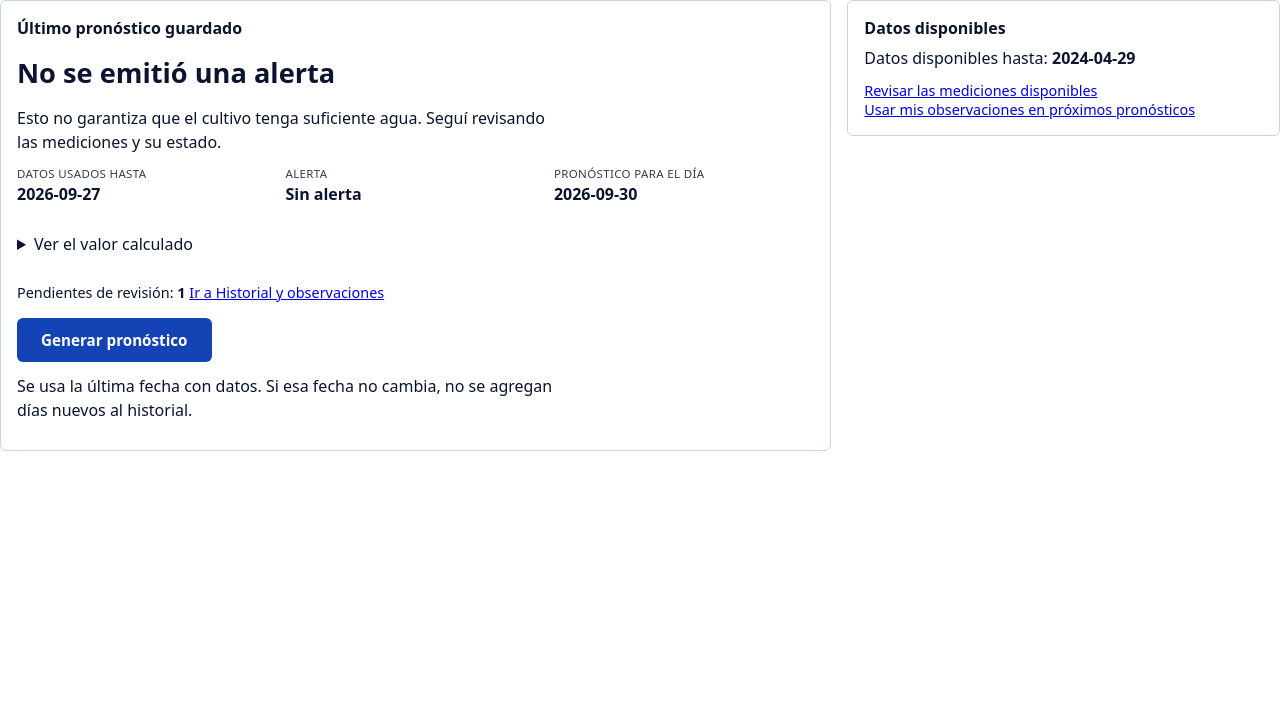
it: ResumenView › says so when generating again does not add a day because the last date already has its forecast
Expected: the text "2026-09-30" is shown, [554,183,637,205]
What coordinates should you click on to do the following:
click the button "Generar pronóstico"
I would click on:
 (114, 340)
Its box is [17,318,212,362].
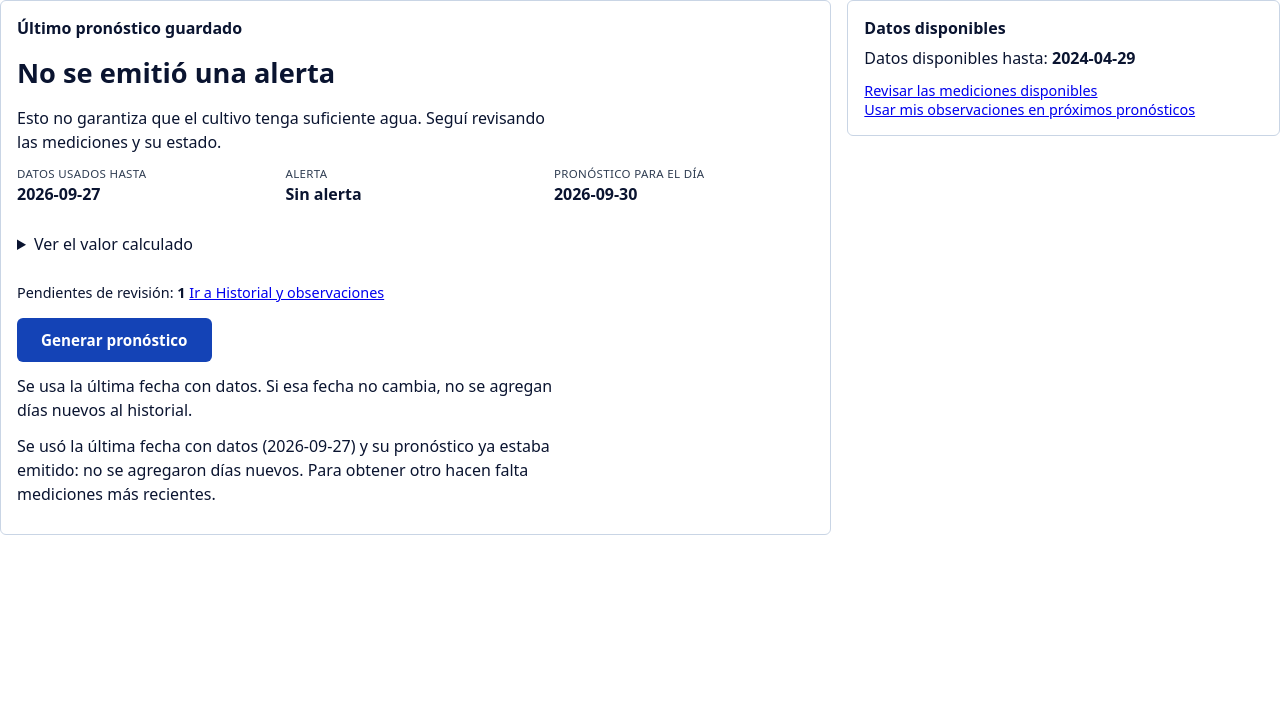
Expected: the text "mediciones más recientes" is shown, [17,435,550,505]
